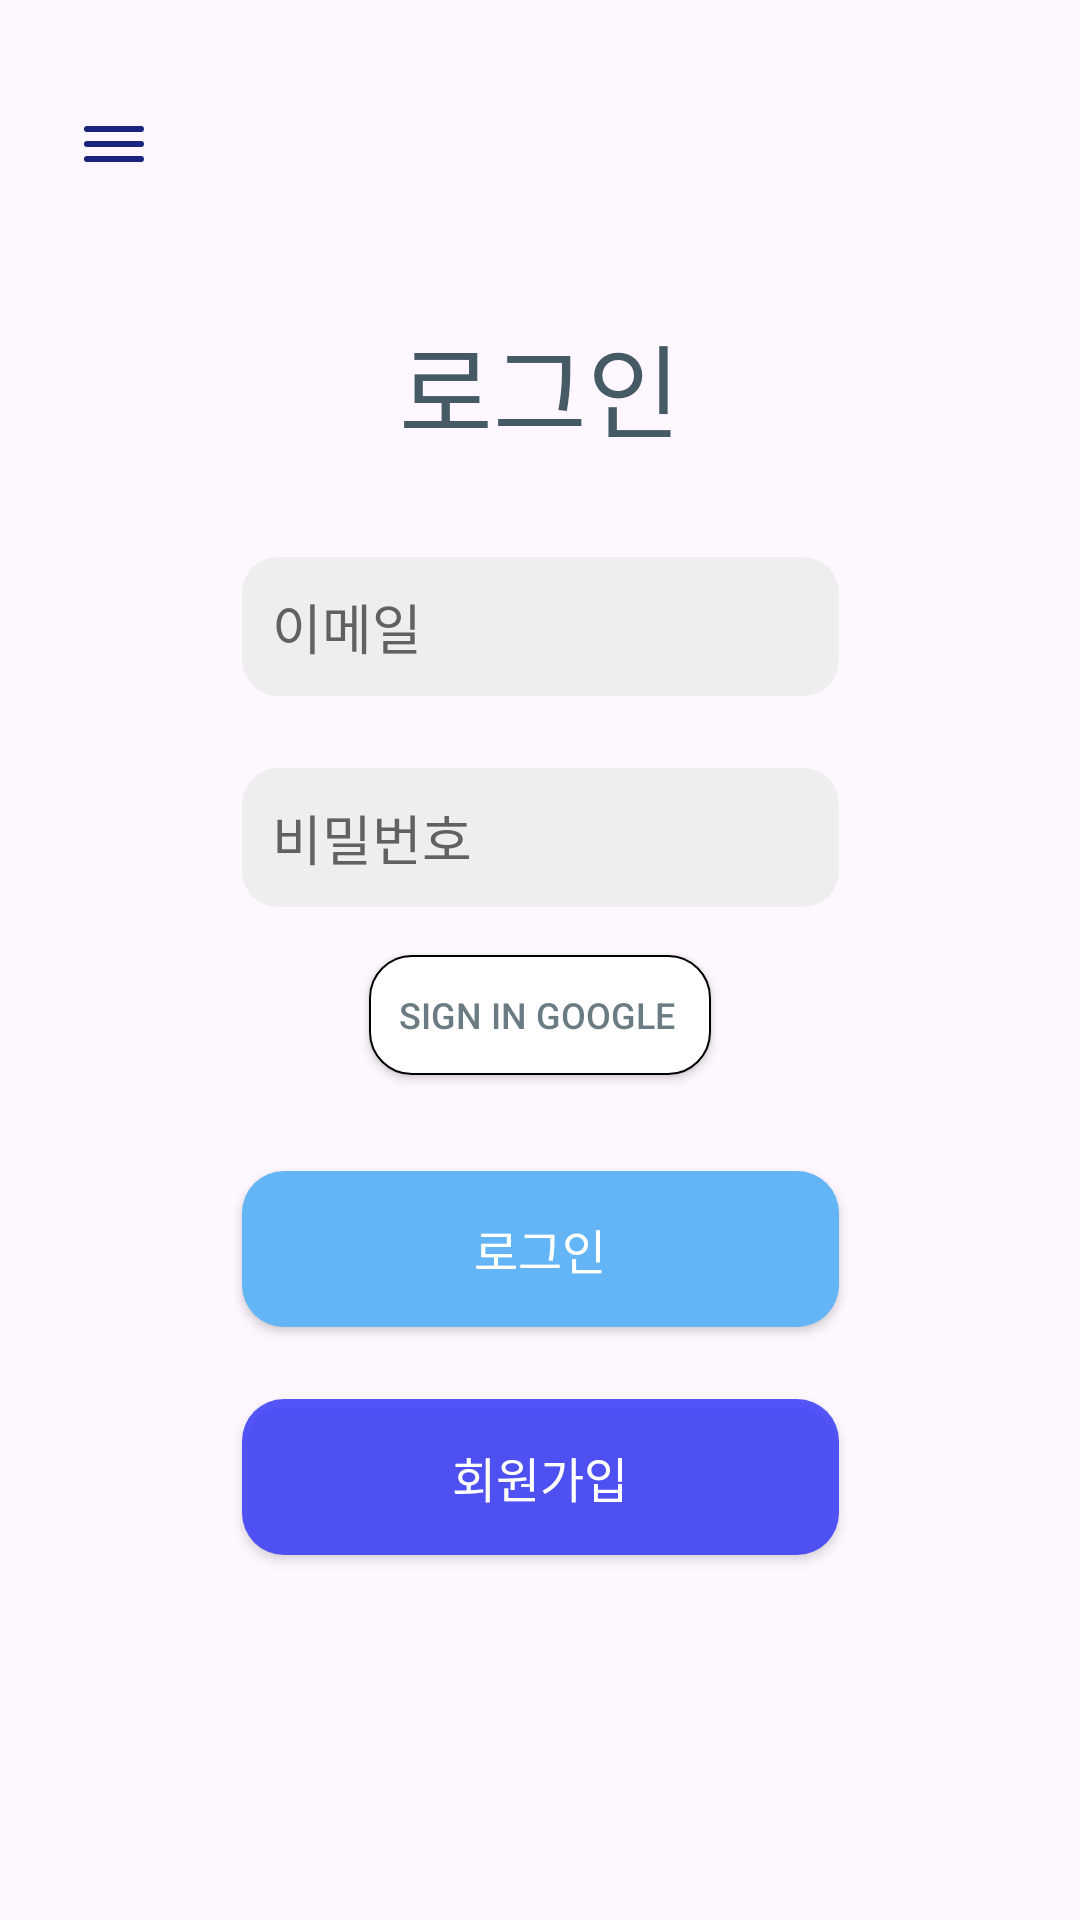

Where icons sit on this 1080 × 1920 app screen, as (x1, y1, x2, y2):
bars: (84, 126, 144, 162)
